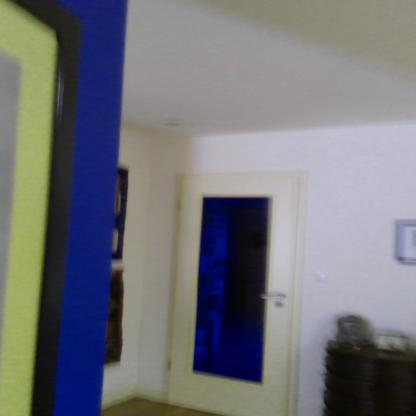door: (179, 179, 289, 415)
hinged: (176, 198, 184, 212), (165, 358, 172, 372)
lever: (260, 290, 288, 302)
